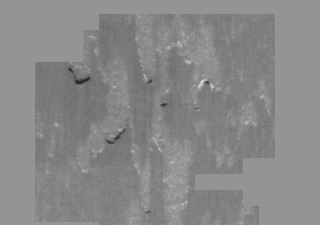oxl: (35, 10, 285, 215)
